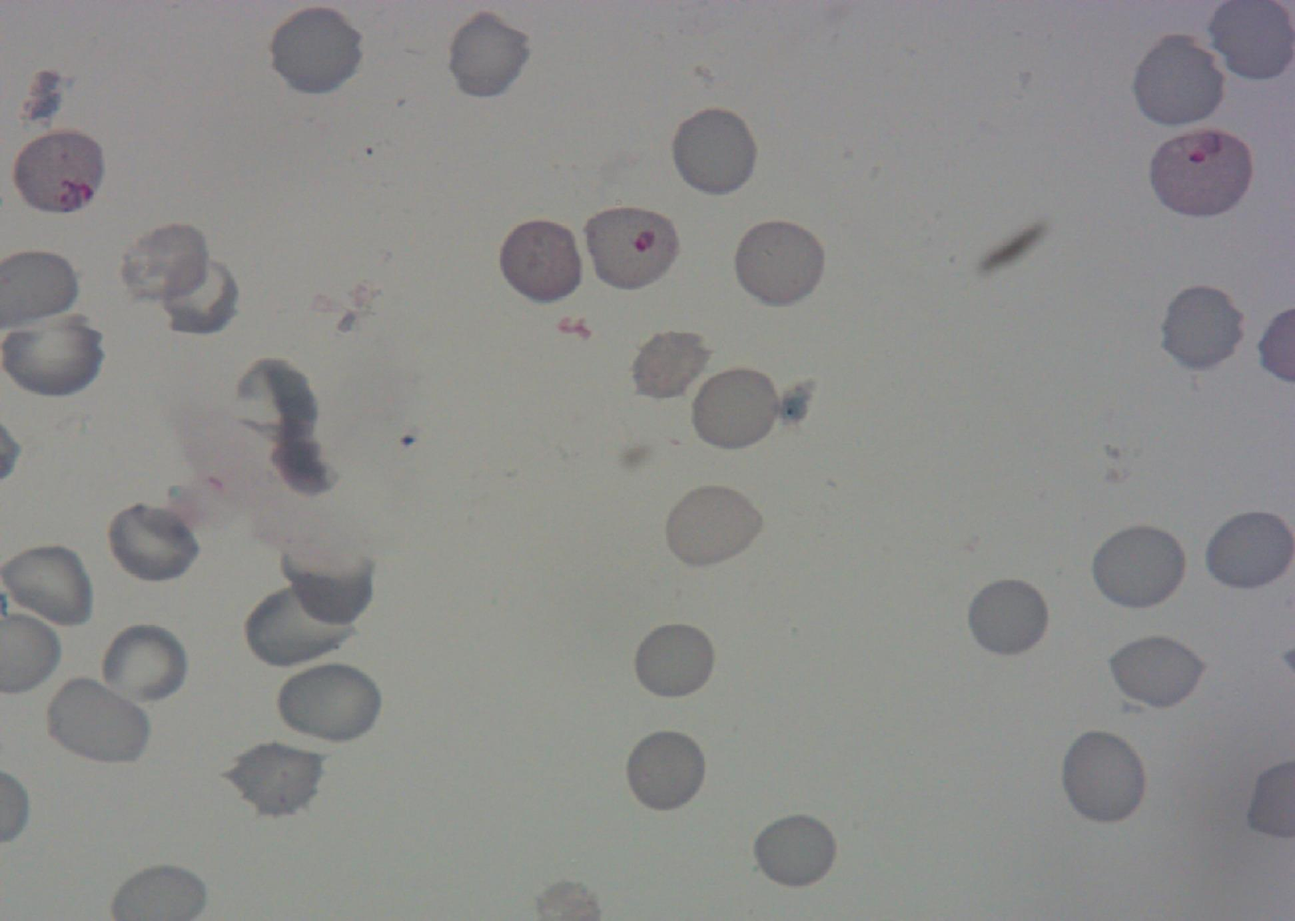Infected: (1146, 123, 1254, 220), (580, 200, 681, 291), (13, 129, 107, 215)
Uninfected: (236, 356, 333, 498), (244, 578, 357, 667), (43, 673, 150, 765), (272, 657, 382, 743), (1130, 33, 1228, 129), (266, 5, 366, 97), (1058, 728, 1150, 827), (1088, 521, 1188, 612), (661, 480, 761, 569), (686, 364, 782, 454), (1, 316, 105, 399), (669, 105, 761, 198), (442, 9, 533, 101), (1156, 282, 1247, 373), (103, 500, 200, 585), (1201, 508, 1294, 595), (732, 225, 823, 312), (1107, 632, 1207, 711), (98, 625, 192, 709), (224, 735, 322, 814), (621, 727, 709, 814), (1, 545, 94, 626), (749, 810, 840, 891), (631, 620, 719, 701), (281, 550, 376, 625), (496, 216, 581, 298), (115, 225, 208, 299), (161, 255, 242, 337), (961, 577, 1047, 653), (628, 326, 710, 396)
